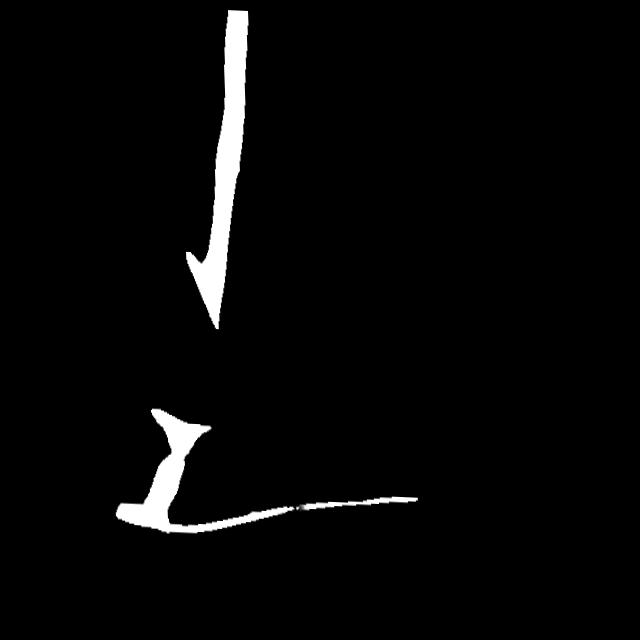inf: (283, 493, 306, 518)
